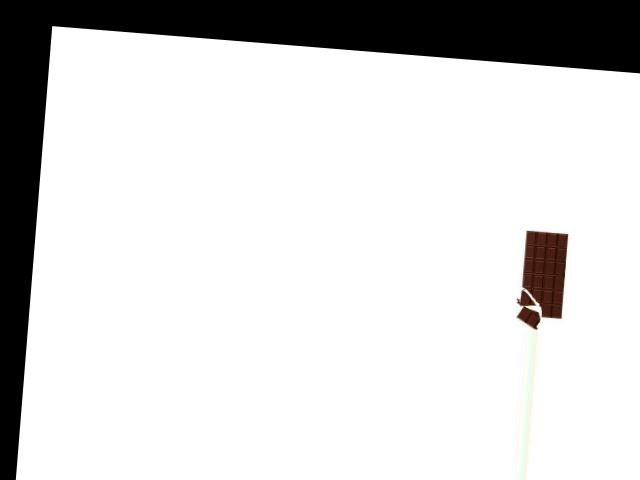chocolate: (505, 228, 575, 332)
